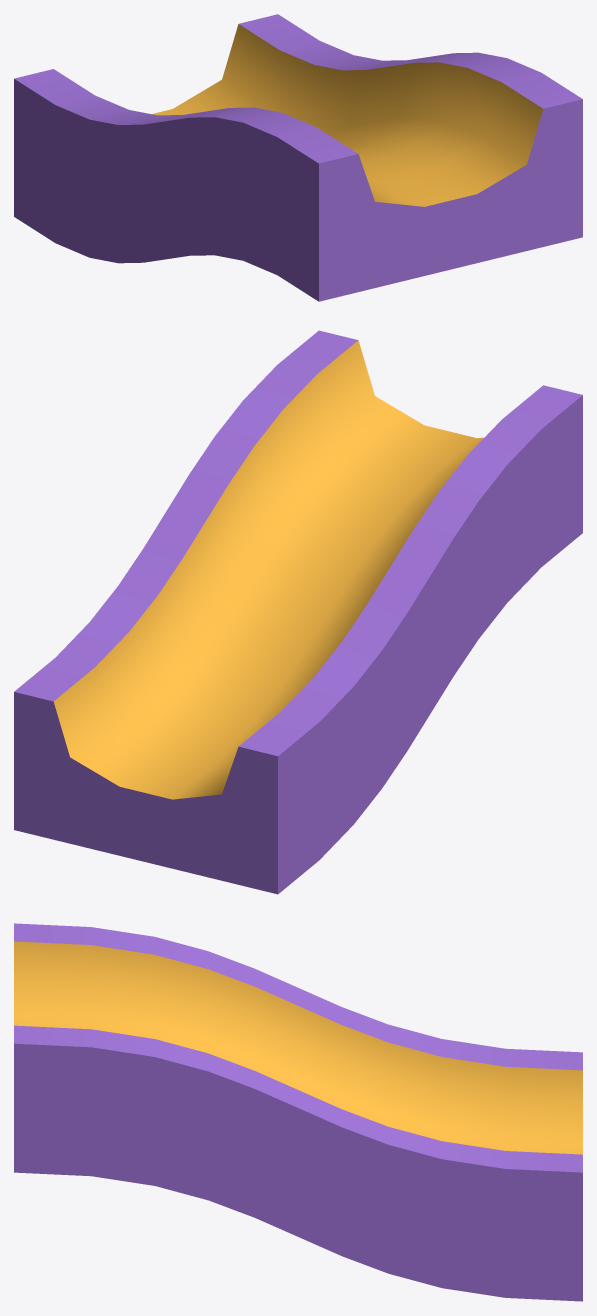
Rendered from ramp-long-b.glb.
The picture shows the model from 3 angles, top to bottom: view 1: azimuth 30°, elevation 25°; view 2: azimuth 150°, elevation 25°; view 3: azimuth 270°, elevation 25°; orthographic projection. The views are drawn at different scales.
Visible parts, largest first — view 1: ramp-long-b; view 2: ramp-long-b; view 3: ramp-long-b.
Part boxes in pixels (<box>): ramp-long-b: <box>14,14,582,301</box>; ramp-long-b: <box>14,330,582,894</box>; ramp-long-b: <box>14,923,582,1301</box>.
Bounding box in the file's own units: 1 × 1 × 2.
Materials: 1 (1 with a texture image).
